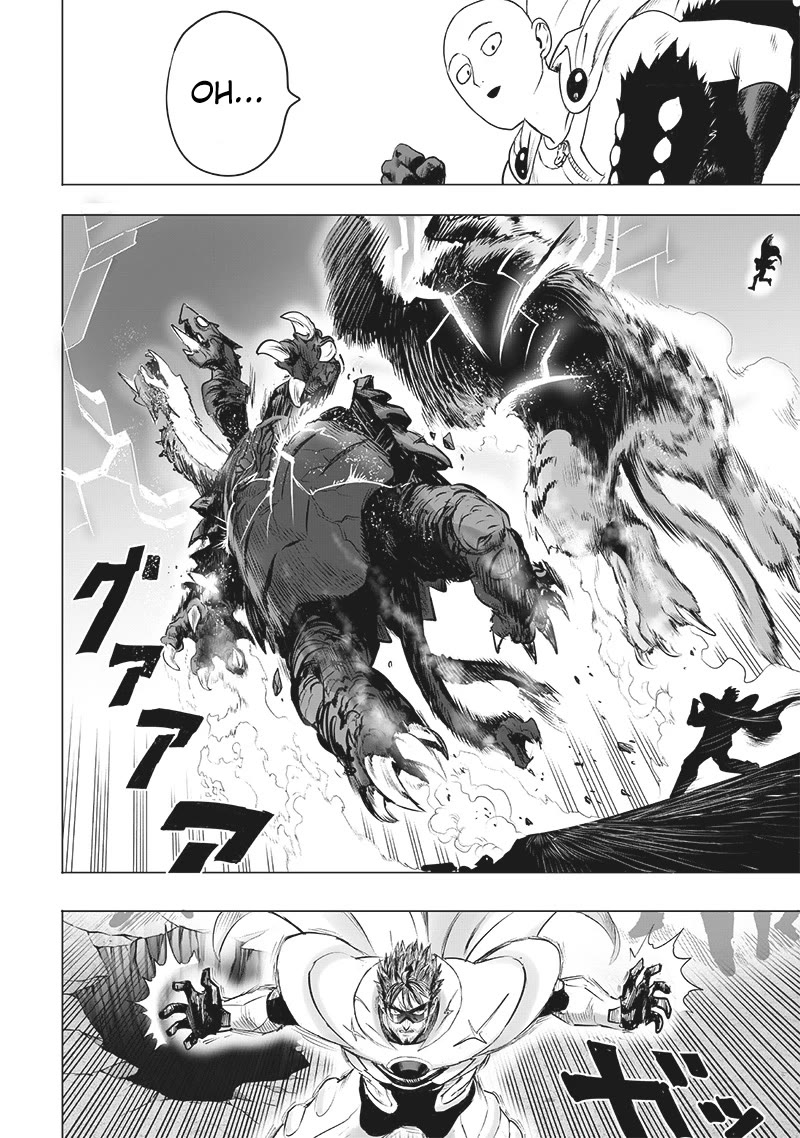bubble: (165, 11, 301, 174)
